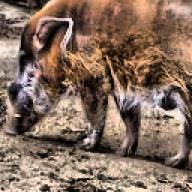boar: (1, 0, 192, 181)
